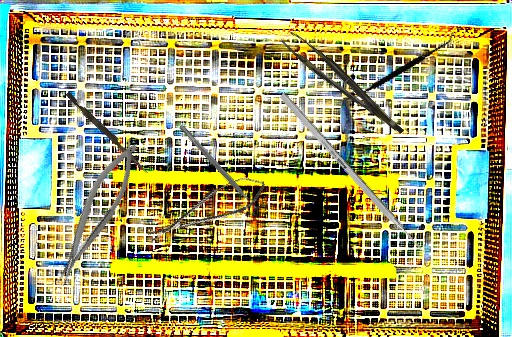Fixation Ring: (174, 119, 268, 219)
Micro Scissor: (141, 170, 272, 249)
Needle Holder: (41, 136, 150, 291)
Pusher: (278, 91, 437, 267), (63, 91, 152, 175)
Spatula Surgical: (344, 3, 456, 136)
Tissue Forceps: (280, 23, 404, 148)
